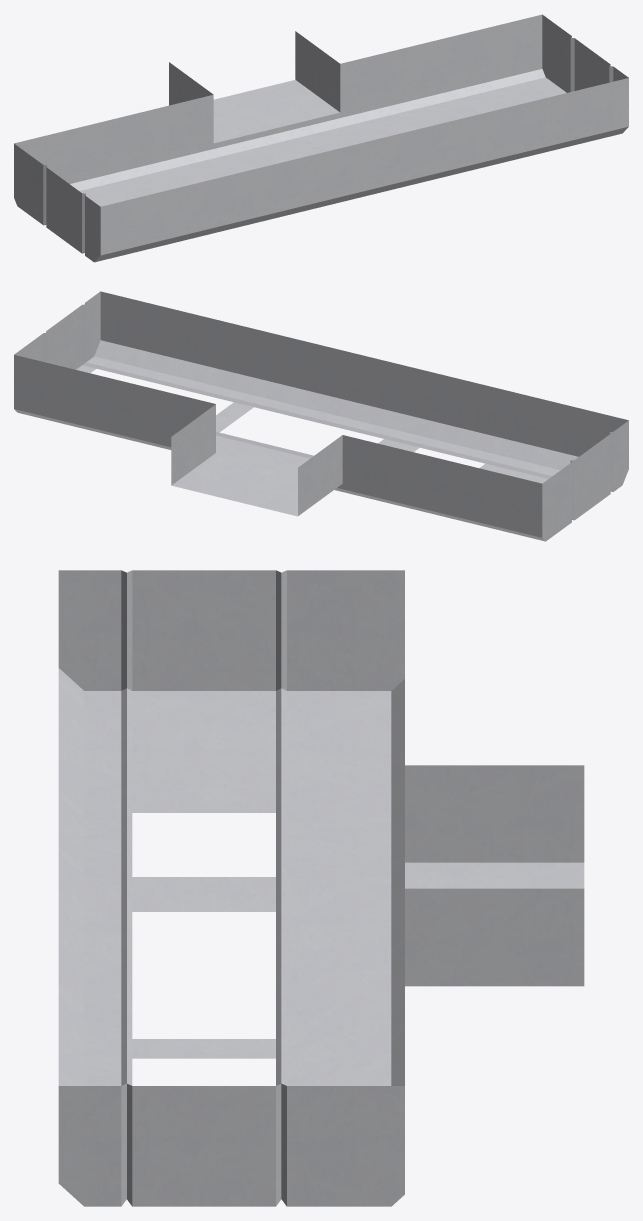
The model's file is SM_Steckdosenbox_01.obj.
3 renders of one model, top to bottom at view 1: azimuth 30°, elevation 25°; view 2: azimuth 150°, elevation 25°; view 3: azimuth 270°, elevation 25°, orthographic. The views are drawn at different scales.
Visible parts, largest first — view 1: SM_Steckdosenbox_01; view 2: SM_Steckdosenbox_01; view 3: SM_Steckdosenbox_01.
Boxes of the visible parts, x1=… form: SM_Steckdosenbox_01: x1=14, y1=14, x2=628, y2=262; SM_Steckdosenbox_01: x1=14, y1=291, x2=628, y2=541; SM_Steckdosenbox_01: x1=58, y1=570, x2=584, y2=1206.
Size of the model in its own units: 0.5765 by 0.063 by 0.2483.
Materials: 1 (1 with a texture image).
